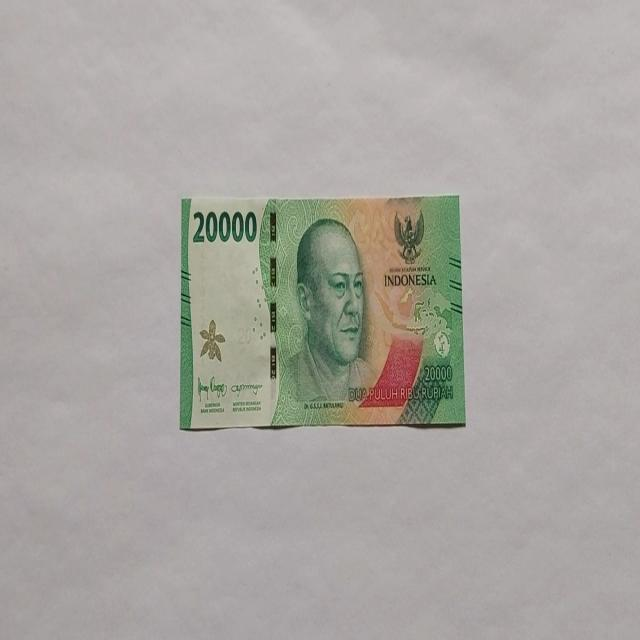dua puluh ribu rupiah: (178, 193, 466, 431)
